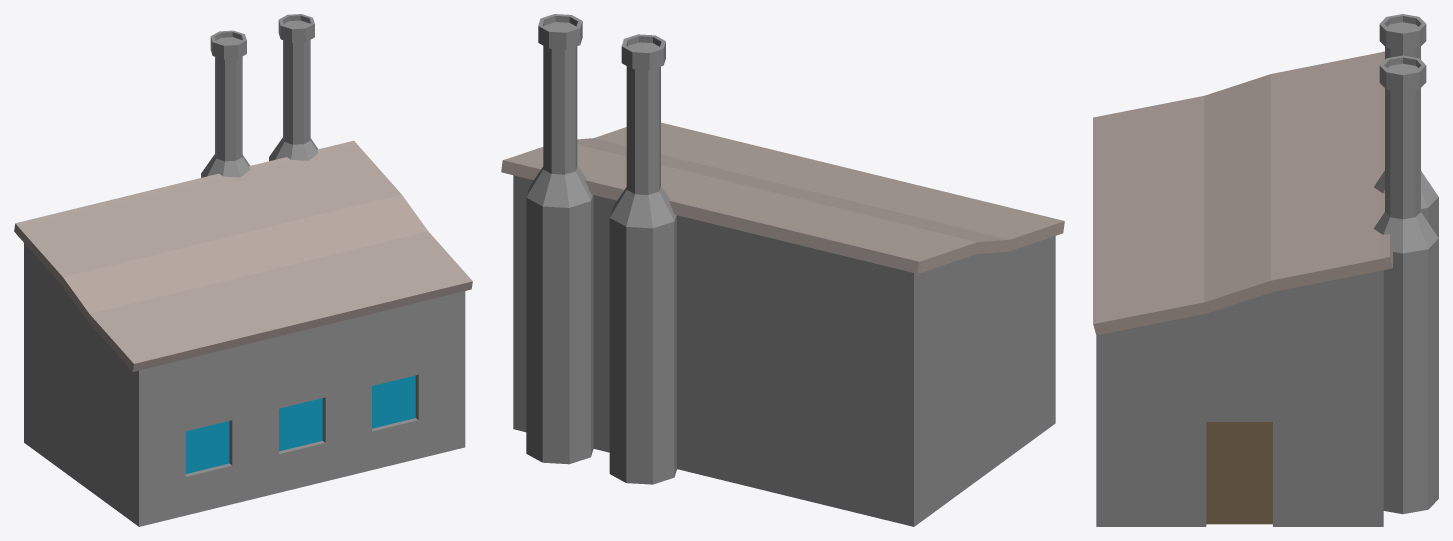
File: coalPowerPlant.fbx
3 renders of one model, left to right at view 1: azimuth 30°, elevation 25°; view 2: azimuth 150°, elevation 25°; view 3: azimuth 270°, elevation 25°, orthographic. The views are drawn at different scales.
Visible parts, largest first — view 1: Cube.001; view 2: Cube.001; view 3: Cube.001.
Boxes of the visible parts, bbox=[...] form: Cube.001: bbox=[14, 14, 472, 526]; Cube.001: bbox=[501, 14, 1064, 526]; Cube.001: bbox=[1093, 14, 1438, 526].
Size of the model in its own units: 340 by 333 by 240.
